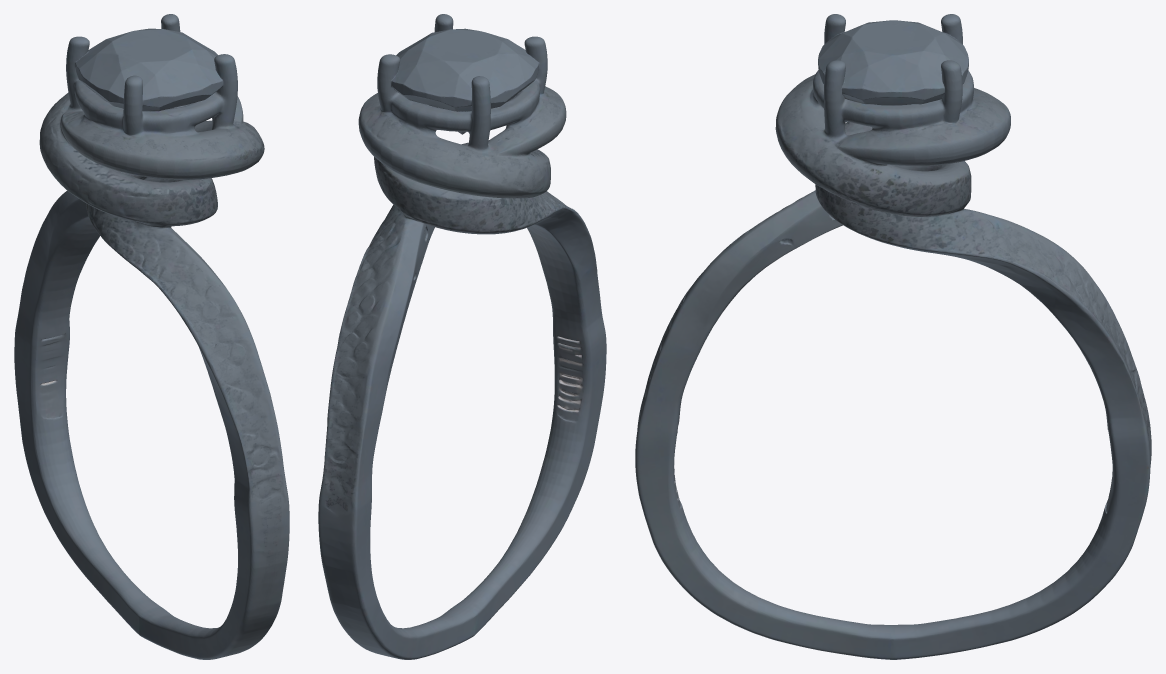
Rendered from ring3.glb.
The picture shows the model from 3 angles, left to right: view 1: azimuth 30°, elevation 25°; view 2: azimuth 150°, elevation 25°; view 3: azimuth 270°, elevation 25°; orthographic projection. The views are drawn at different scales.
Parts seen in each view (by area): view 1: tripo_node_58dbf895-a0c8-408b-85f6-7ba213429cef; view 2: tripo_node_58dbf895-a0c8-408b-85f6-7ba213429cef; view 3: tripo_node_58dbf895-a0c8-408b-85f6-7ba213429cef.
Part boxes in pixels (x1,y1,x2,y2): tripo_node_58dbf895-a0c8-408b-85f6-7ba213429cef: [14, 14, 289, 659]; tripo_node_58dbf895-a0c8-408b-85f6-7ba213429cef: [318, 14, 606, 659]; tripo_node_58dbf895-a0c8-408b-85f6-7ba213429cef: [635, 14, 1151, 659].
Bounding box in the file's own units: 0.3154 × 0.9999 × 0.758.
Materials: 1 (1 with a texture image).
